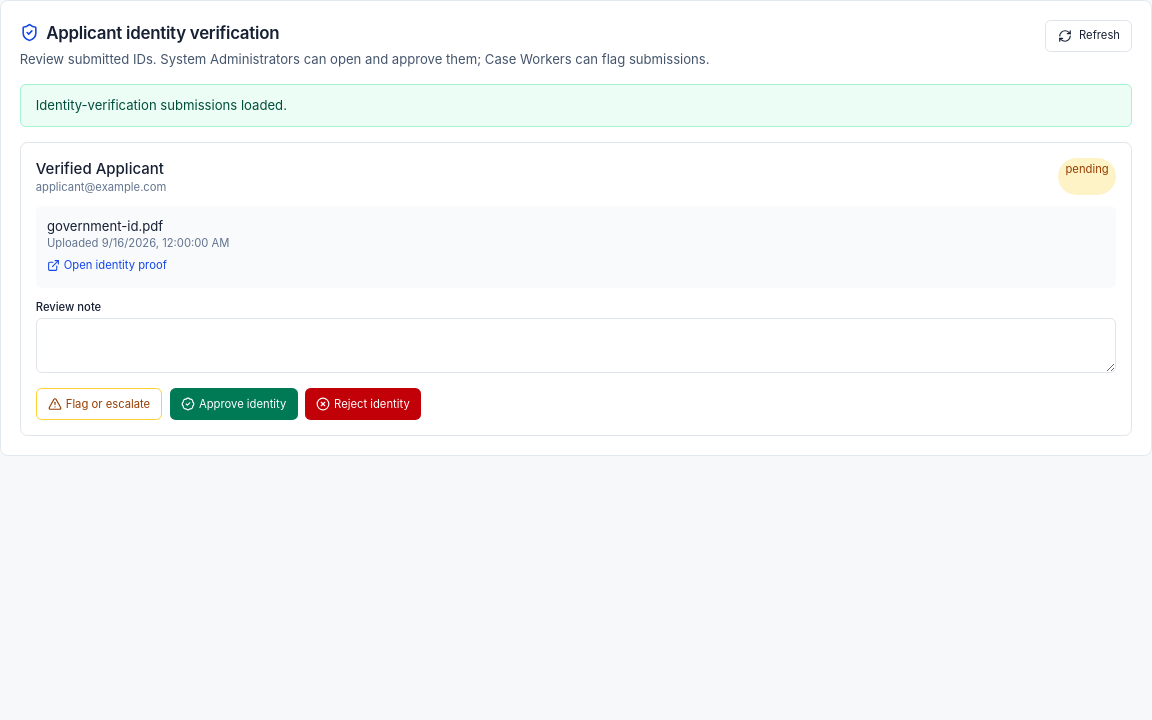
ApplicantVerificationPanel protected identity proof › shows an actionable error for status 403
Click the button "Open identity proof" at (107, 266), box [47,258,167,273]
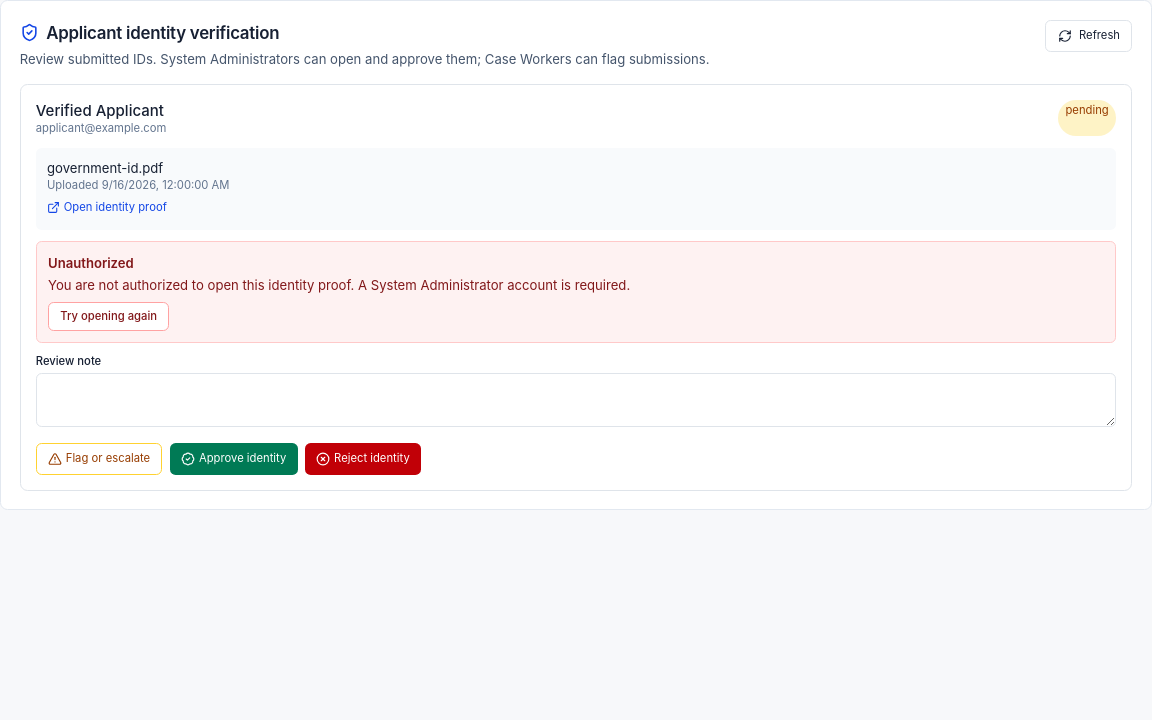
Expected: the message shows "Unauthorized", [48,254,134,270]
Expected: the message shows "System Administrator", [48,277,630,293]
Expected: the button "Try opening again" is shown, [48,302,169,331]
